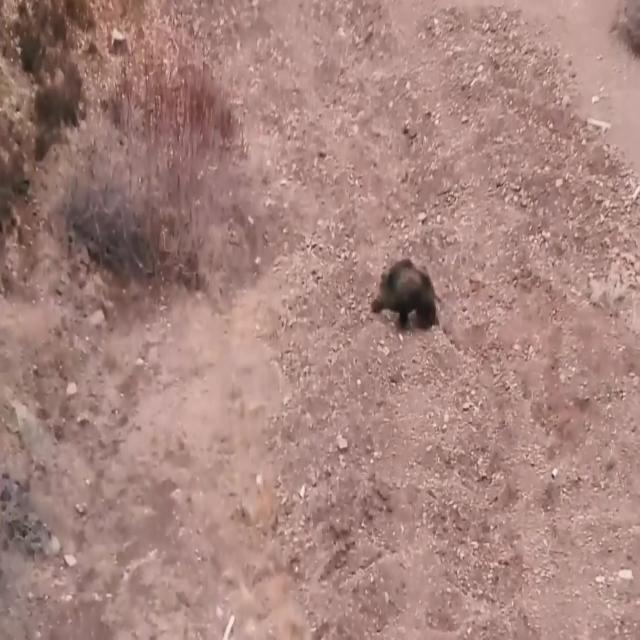pig: (369, 252, 449, 344)
